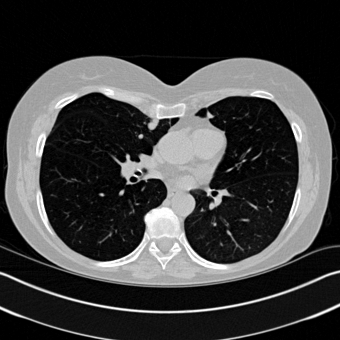nodule: (138, 133, 144, 139)
